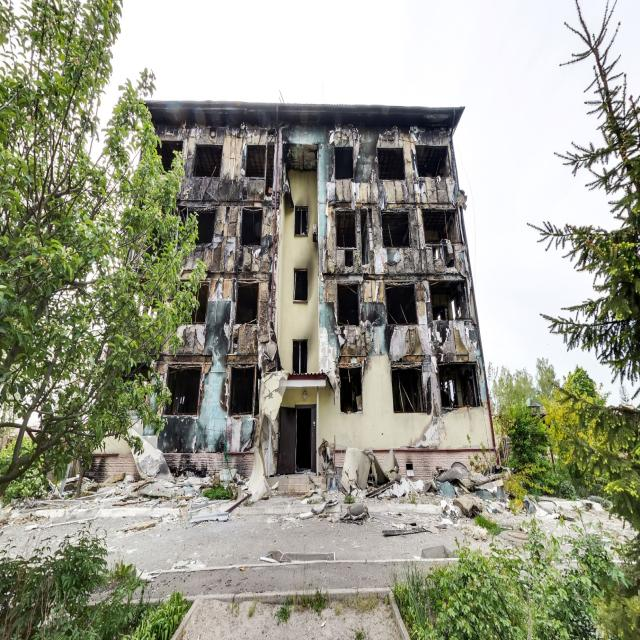building: (75, 97, 506, 498)
damage: (106, 124, 489, 481), (82, 164, 436, 490), (295, 407, 312, 471), (294, 252, 314, 303), (294, 186, 313, 236), (292, 337, 309, 374), (303, 319, 316, 355), (296, 240, 312, 268)
damaged_roof: (141, 101, 464, 128)
other: (1, 0, 640, 639), (76, 149, 639, 636), (451, 3, 639, 638), (3, 256, 205, 483)
roof: (135, 99, 466, 129)
